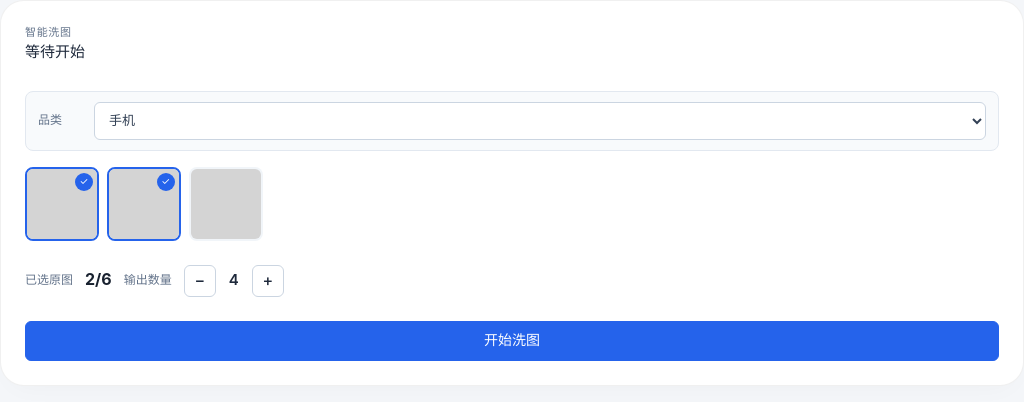
Test: ImageGenerationPanel › adjusts output count with +/- buttons
Step 1. Click the button named "减少" → [200, 281], box x1=184 y1=265 x2=216 y2=297
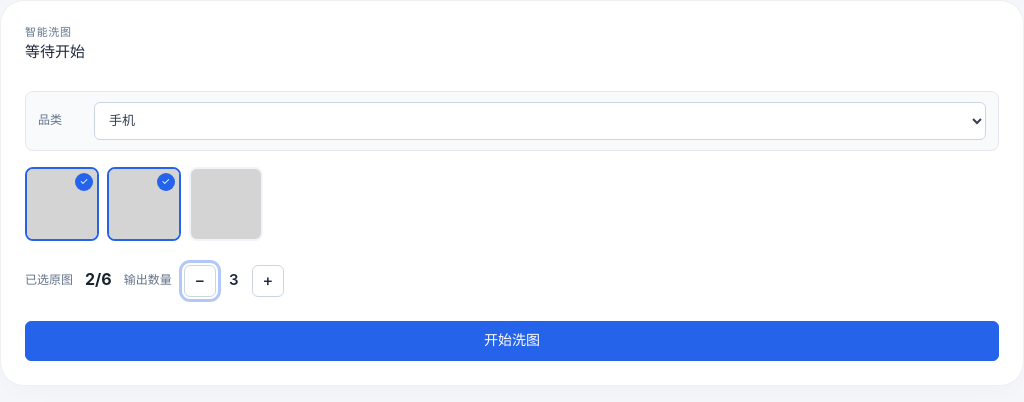
Check: the text "3" is shown, box x1=229 y1=269 x2=238 y2=292
Step 2. Click the button named "增加" → [268, 281], box x1=252 y1=265 x2=284 y2=297
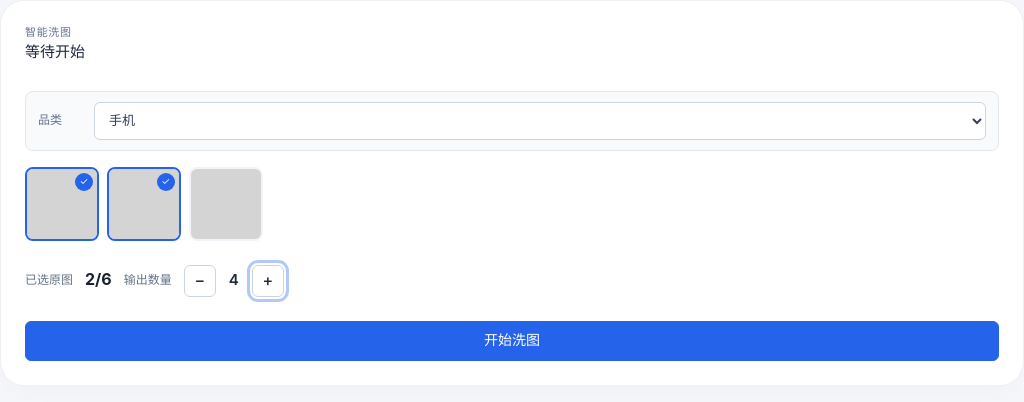
Step 3. Click the button named "增加" → [268, 281], box x1=252 y1=265 x2=284 y2=297
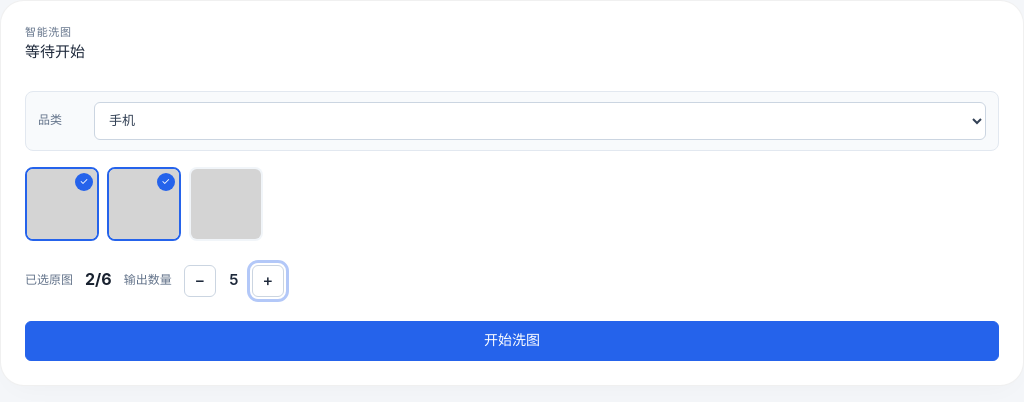
Check: the text "5" is shown, box x1=229 y1=269 x2=238 y2=292
